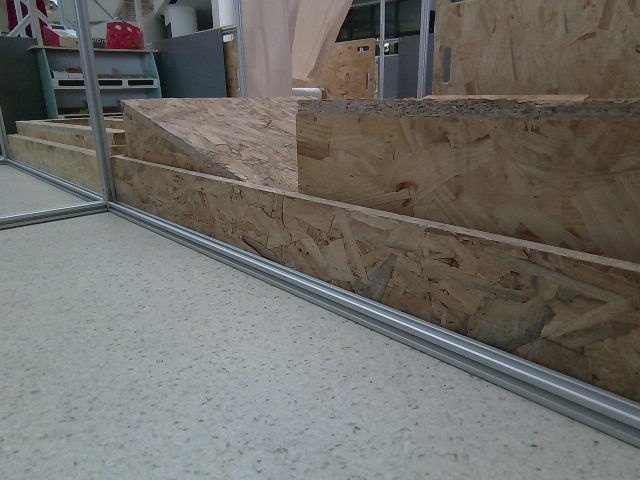curtain: (224, 0, 371, 86)
